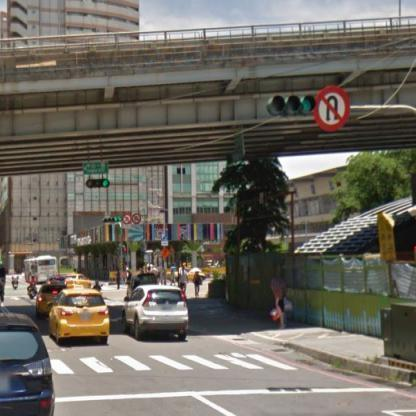Green Light: (266, 95, 315, 116), (84, 178, 112, 190), (103, 215, 120, 223)
